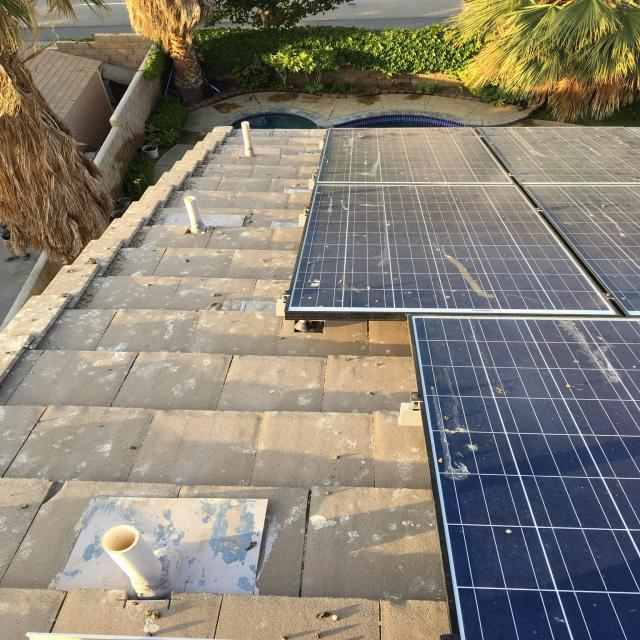dust-solar-panel: (279, 121, 640, 640)
